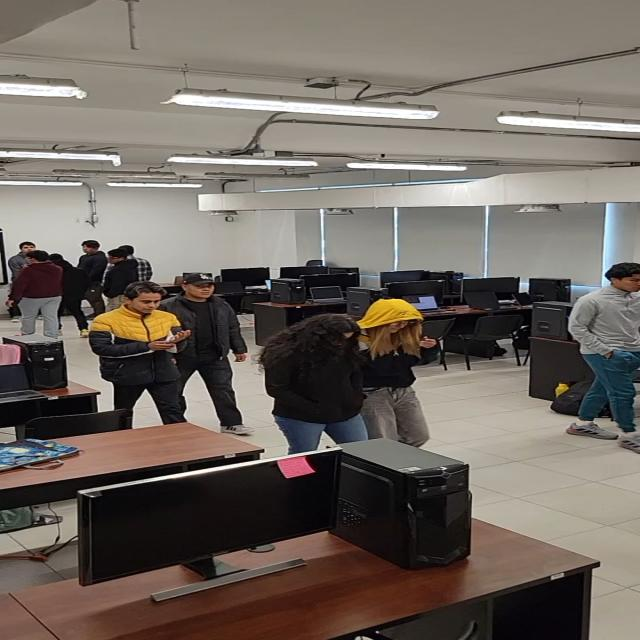Persona: (252, 307, 376, 452), (363, 302, 454, 448), (177, 265, 260, 420), (95, 281, 193, 412), (554, 266, 640, 405), (11, 250, 76, 333)
